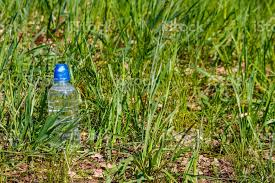plastic_bottle: (47, 61, 83, 139)
